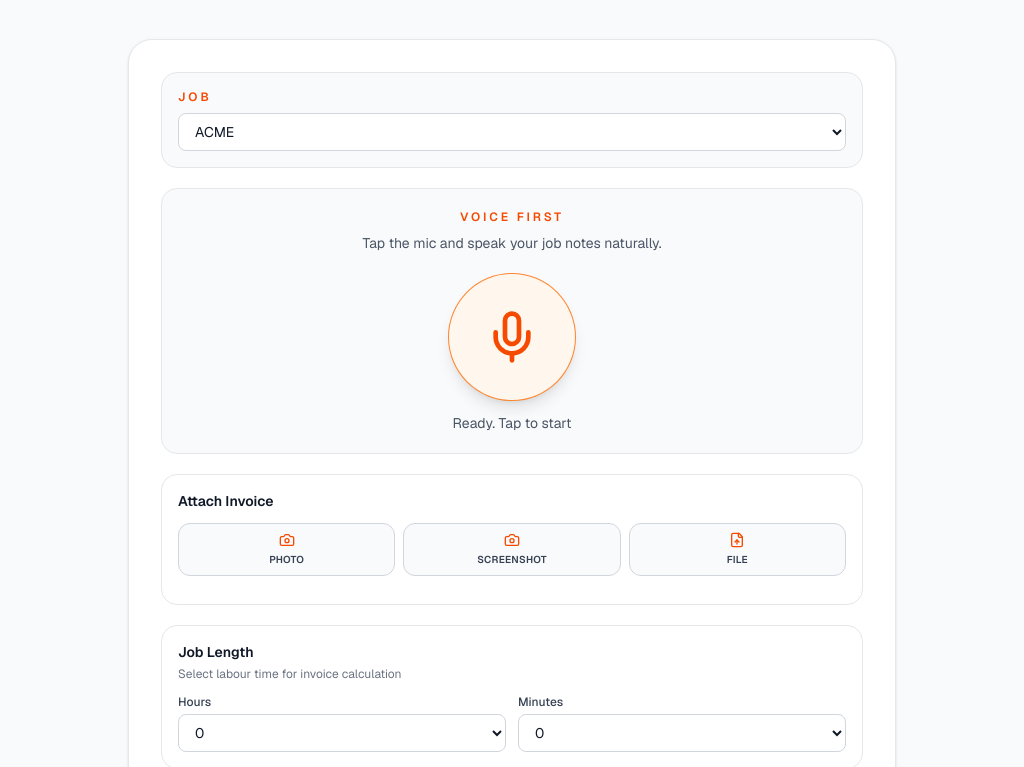
Test: Capture page logic › records then stops audio with mocked MediaRecorder
This screenshot has width=1024, height=767.
Step 1. Click the button named "start recording" → {"x": 512, "y": 337}, box [448,273,576,401]
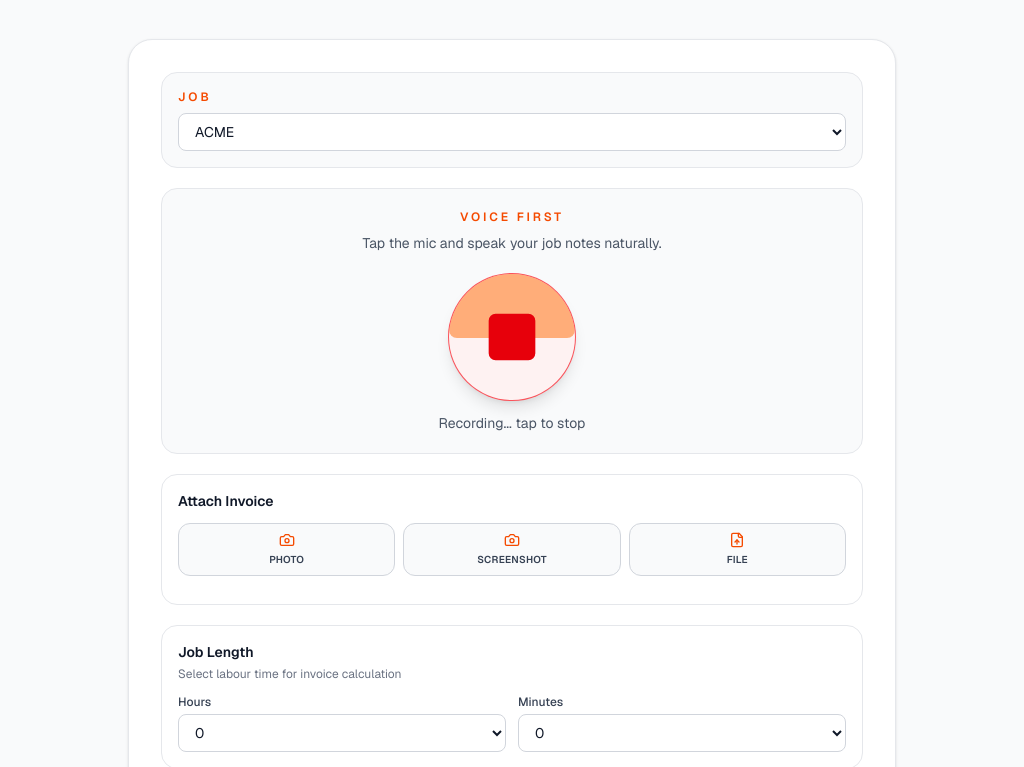
Step 2. Click the button named "stop recording" → {"x": 512, "y": 337}, box [448,273,576,401]
(page scrolled)
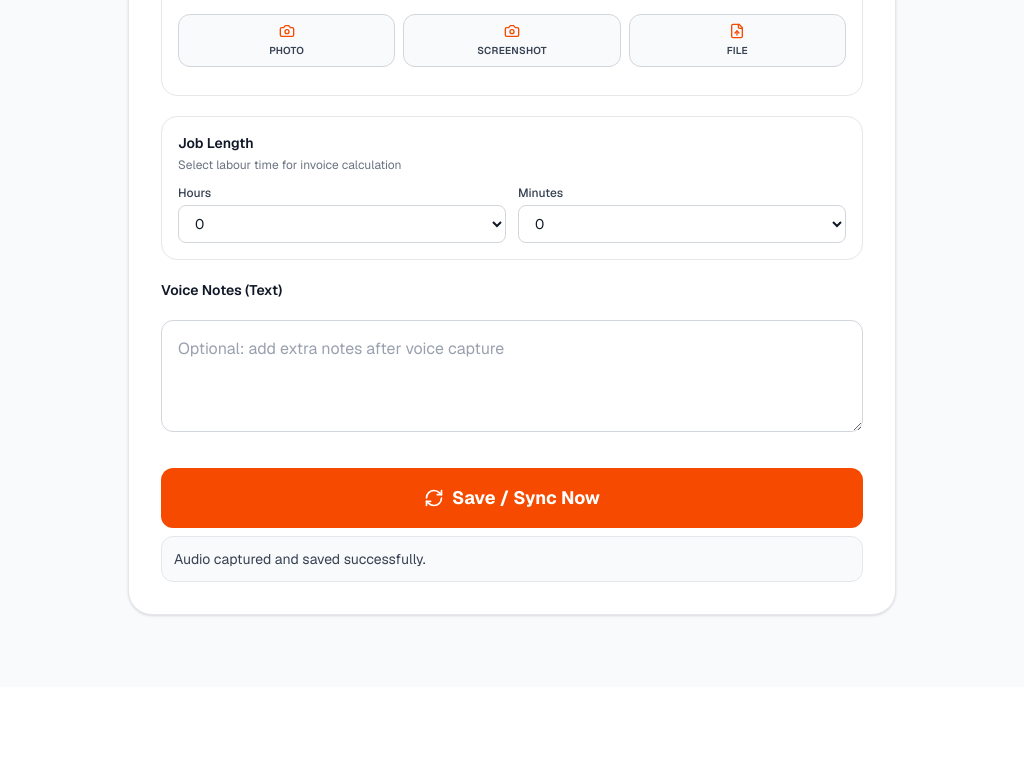
Check: the text "Audio captured and saved successfully." is shown, box [161,536,863,582]
